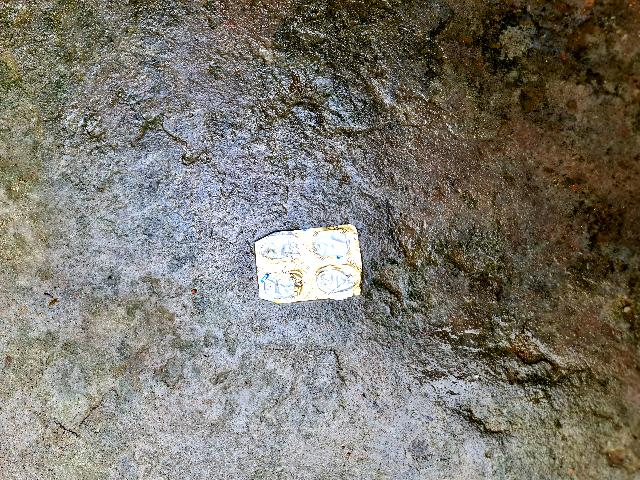medicine: (249, 222, 372, 307)
